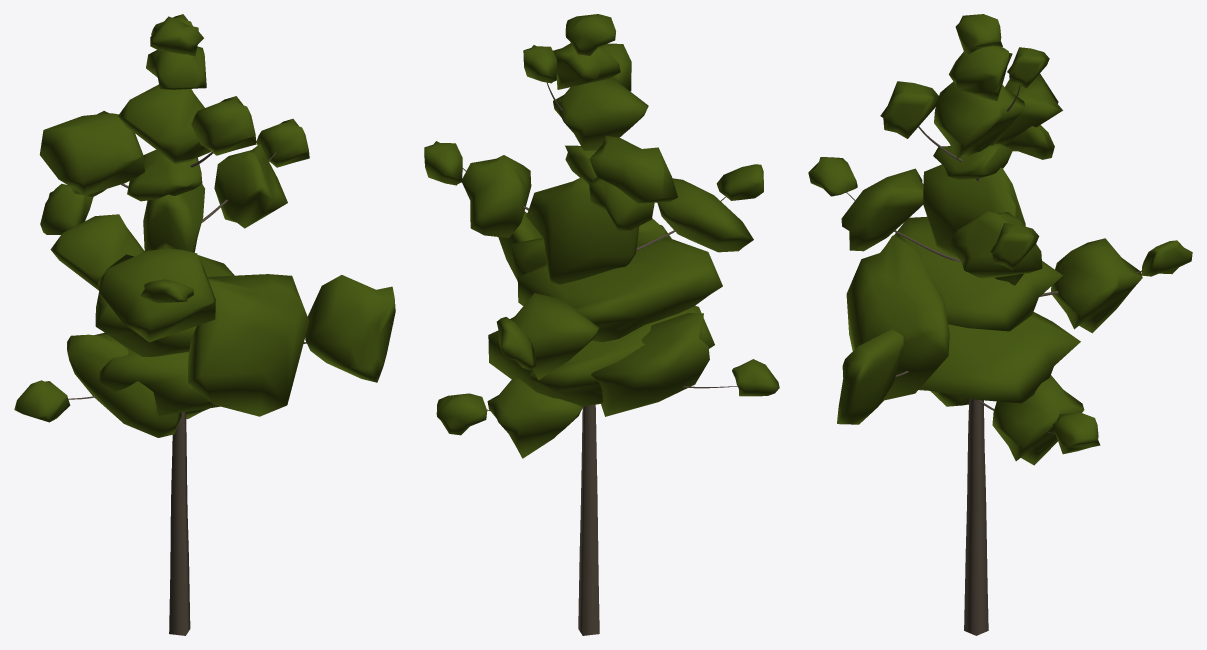
Rendered from OcitreeGO1.fbx.
3 views of the same model, side by side, from view 1: azimuth 30°, elevation 25°; view 2: azimuth 150°, elevation 25°; view 3: azimuth 270°, elevation 25° (orthographic).
Parts seen in each view (by area): view 1: Oci tree foliage, Oci Tree Trunk, Oci Tree stump; view 2: Oci tree foliage, Oci Tree Trunk, Oci Tree stump; view 3: Oci tree foliage, Oci Tree Trunk, Oci Tree stump.
Boxes of the visible parts, bbox=[...] form: Oci tree foliage: bbox=[14, 14, 395, 437]; Oci Tree Trunk: bbox=[68, 152, 393, 536]; Oci Tree stump: bbox=[169, 531, 190, 635]; Oci tree foliage: bbox=[424, 14, 779, 458]; Oci Tree Trunk: bbox=[462, 82, 737, 535]; Oci Tree stump: bbox=[578, 530, 599, 635]; Oci tree foliage: bbox=[808, 14, 1192, 465]; Oci Tree Trunk: bbox=[846, 85, 1142, 535]; Oci Tree stump: bbox=[964, 532, 988, 635].
Bounding box in the file's own units: 332 × 581 × 330.
